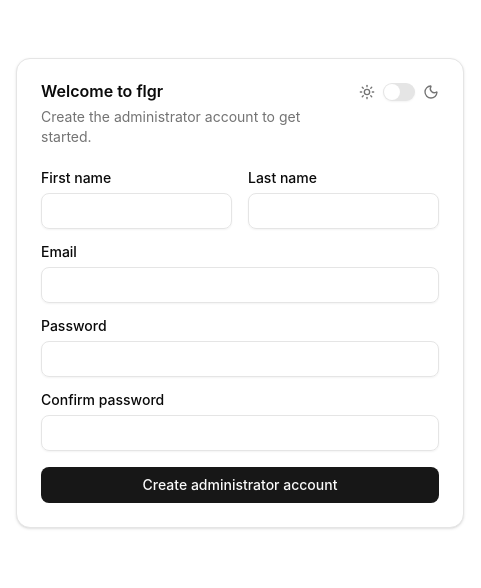
Test: SetupWizardPage › shows validation errors for empty required fields
Click the button "Create administrator account": (240, 485) [41, 467, 439, 503]
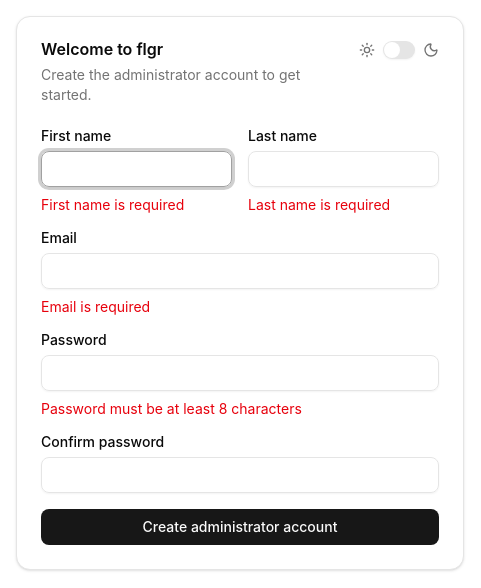
Expected: the text "First name is required" is shown, [41, 196, 184, 213]
Expected: the text "Last name is required" is shown, [248, 196, 390, 213]
Expected: the text "Email is required" is shown, [41, 298, 150, 315]
